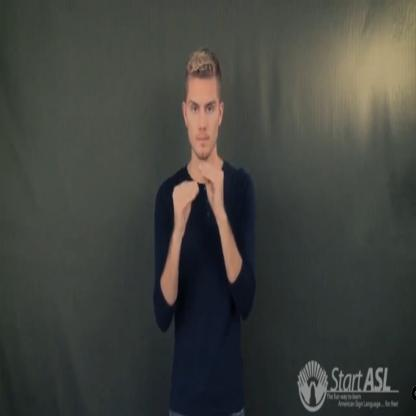Fix: (166, 147, 226, 233)
